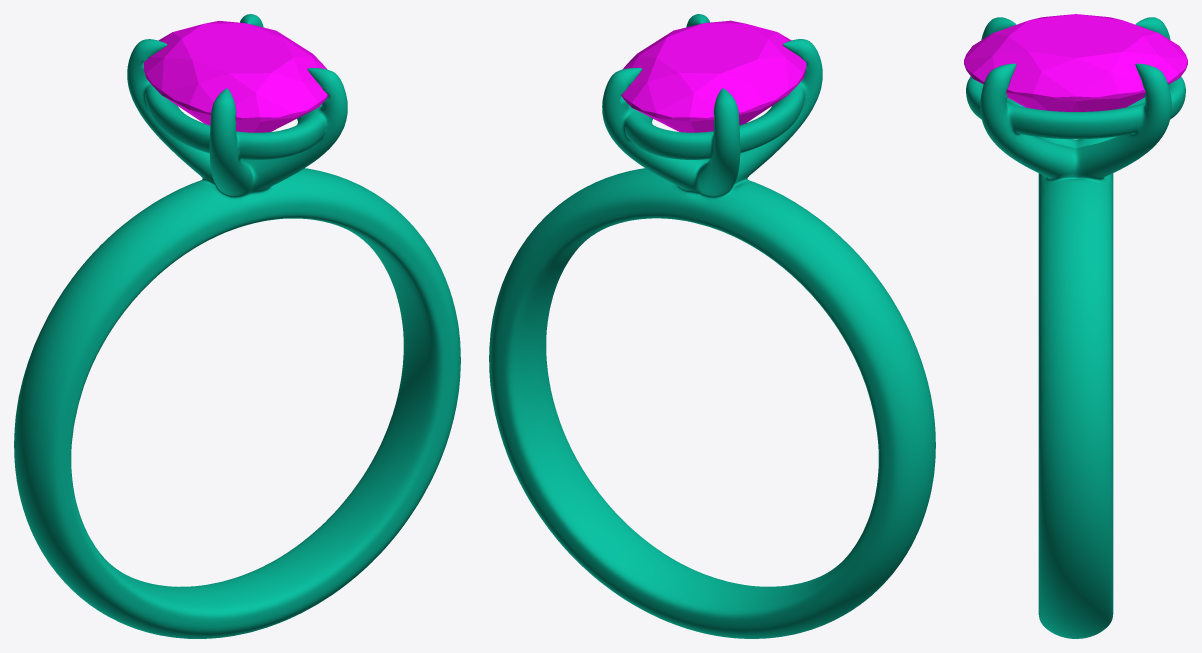
File: BE15698_OV_200ct_RENDER.glb
3 views of the same model, side by side, from view 1: azimuth 30°, elevation 25°; view 2: azimuth 150°, elevation 25°; view 3: azimuth 270°, elevation 25° (orthographic).
Parts seen in each view (by area): view 1: Metal 01, CS_Diamond_Oval; view 2: Metal 01, CS_Diamond_Oval; view 3: Metal 01, CS_Diamond_Oval.
Boxes of the visible parts, x1,y1,x2,y2 form: Metal 01: [14, 14, 460, 638]; CS_Diamond_Oval: [143, 20, 328, 132]; Metal 01: [489, 14, 935, 638]; CS_Diamond_Oval: [621, 20, 806, 132]; Metal 01: [966, 17, 1185, 638]; CS_Diamond_Oval: [964, 14, 1187, 111].
Bounding box in the file's own units: 20.09 × 25.73 × 9.
